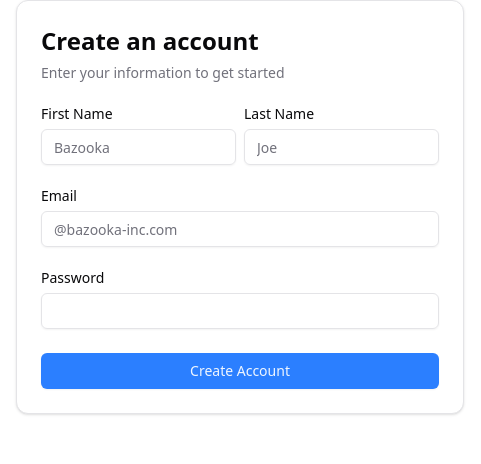
SignupForm - Vulnerability Tests › Form Submission › should handle network errors gracefully
In the field labelled "First Name": (138, 147) [41,129,236,165], type "John"
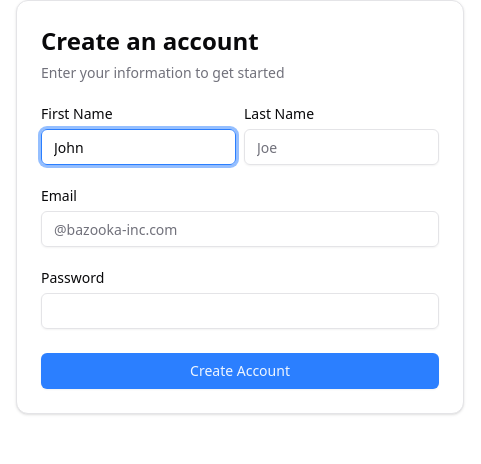
In the field labelled "Last Name": (342, 147) [244,129,439,165], type "Doe"
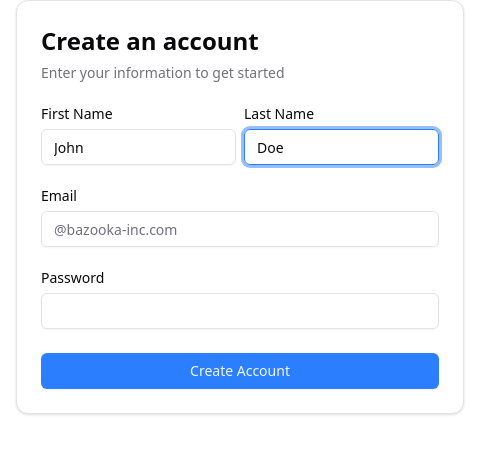
In the field labelled "Email": (240, 229) [41,211,439,247], type "john@bazooka-inc.com"
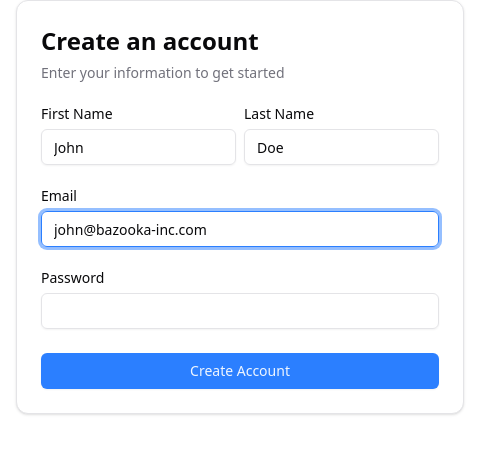
In the password field labelled "Password": (240, 311) [41,293,439,329], type "password123"
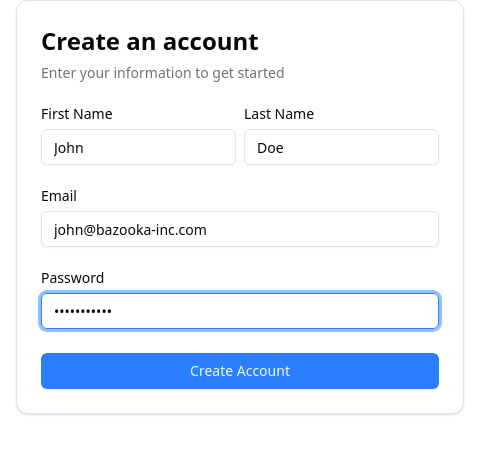
Click the button "Create Account": (240, 371) [41,353,439,389]
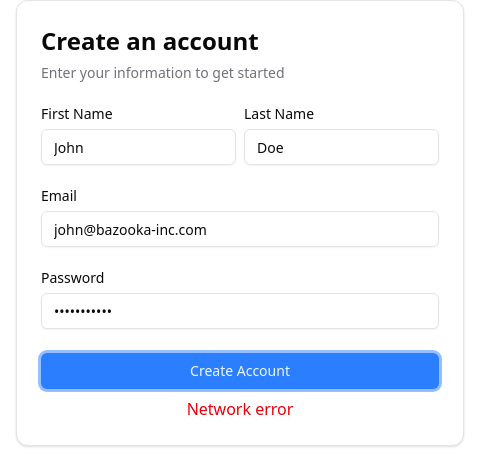
Expected: the text "Network error" is shown, [187,398,293,420]
